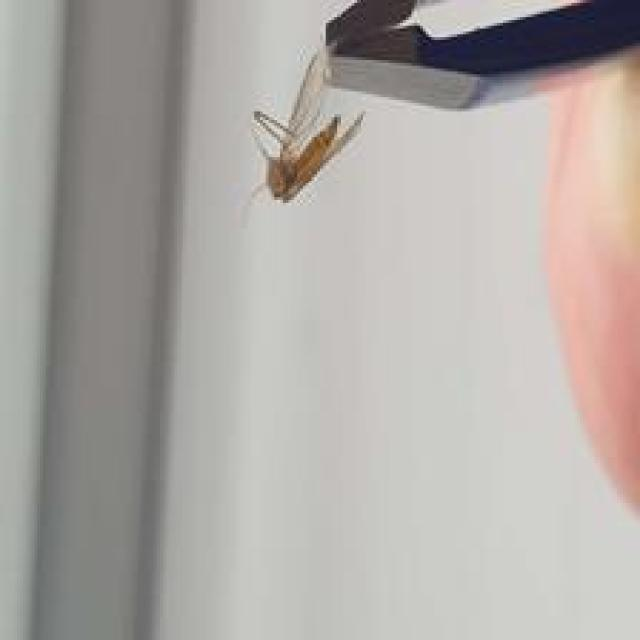Culex: (246, 48, 366, 205)
